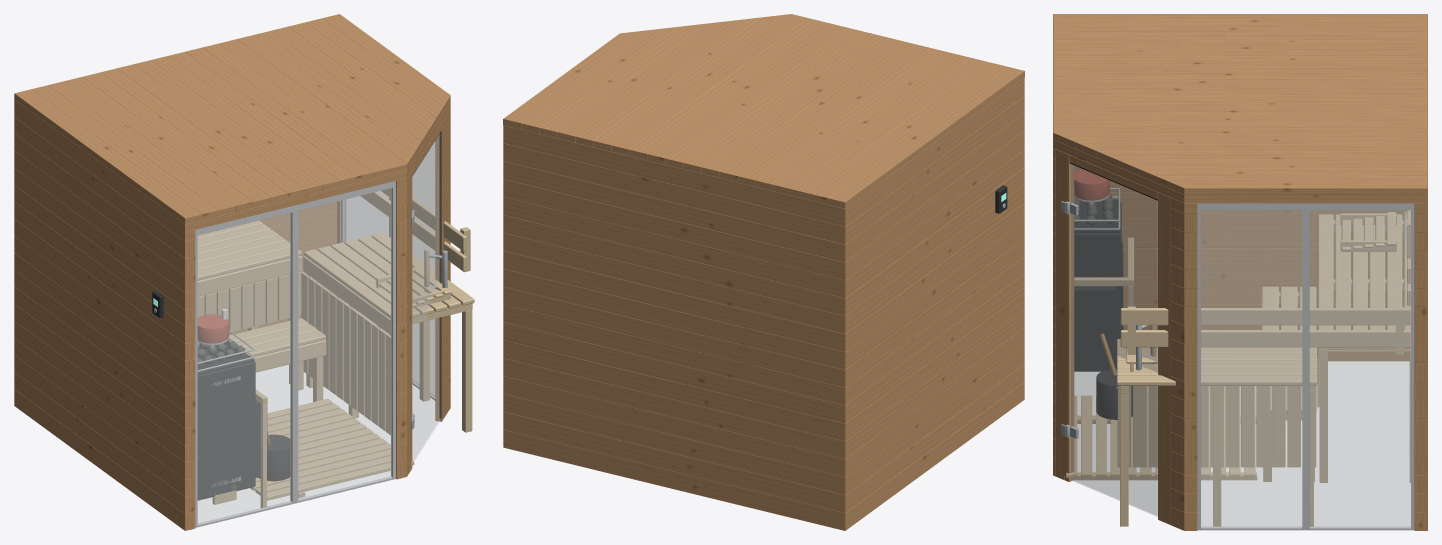
The model's file is zirbe-eck-glasfront.glb.
The picture shows the model from 3 angles, left to right: view 1: azimuth 30°, elevation 25°; view 2: azimuth 150°, elevation 25°; view 3: azimuth 270°, elevation 25°; orthographic projection. The views are drawn at different scales.
Visible parts, largest first — view 1: Glass front pane 8mm.001, Glass front pane 8mm, Door glass 8mm, Heater casing, Ceiling board 01, Ceiling board 05, Ceiling board 02, Ceiling board 04, Ceiling board 06, Ceiling board 10, Ceiling board 11, Ceiling board 03 (+87 smaller); view 2: Back board 07, Back board 10, Back board 02, Back board 04, Back board 08, Back board 09, Back board 03, Back board 11, Back board 12, Back board 15, Back board 16, Back board 17 (+43 smaller); view 3: Glass front pane 8mm.002, Glass front pane 8mm.003, Door glass 8mm, Door jamb, Side backrest right slat 2, Side backrest right slat 1, Ceiling board 19, Door jamb.001, Ceiling board 14, Ceiling board 13, Ceiling board 01, Ceiling board 02 (+68 smaller).
Part boxes in pixels (bbox=[...]): Glass front pane 8mm.001: bbox=[298, 188, 391, 499]; Glass front pane 8mm: bbox=[198, 213, 291, 524]; Door glass 8mm: bbox=[412, 133, 440, 461]; Heater casing: bbox=[197, 361, 255, 500]; Ceiling board 01: bbox=[14, 89, 202, 224]; Ceiling board 05: bbox=[83, 72, 270, 207]; Ceiling board 02: bbox=[31, 85, 219, 220]; Ceiling board 04: bbox=[66, 76, 253, 211]; Ceiling board 06: bbox=[100, 68, 287, 203]; Ceiling board 10: bbox=[169, 51, 356, 186]; Ceiling board 11: bbox=[186, 47, 373, 182]; Ceiling board 03: bbox=[49, 81, 236, 215]; Back board 07: bbox=[503, 322, 845, 423]; Back board 10: bbox=[503, 268, 845, 369]; Back board 02: bbox=[503, 412, 845, 512]; Back board 04: bbox=[503, 376, 845, 476]; Back board 08: bbox=[503, 304, 845, 405]; Back board 09: bbox=[503, 286, 845, 387]; Back board 03: bbox=[503, 394, 845, 494]; Back board 11: bbox=[503, 250, 845, 351]; Back board 12: bbox=[503, 233, 845, 333]; Back board 15: bbox=[503, 179, 845, 280]; Back board 16: bbox=[503, 161, 845, 262]; Back board 17: bbox=[503, 143, 845, 244]; Glass front pane 8mm.002: bbox=[1201, 210, 1301, 527]; Glass front pane 8mm.003: bbox=[1310, 210, 1410, 527]; Door glass 8mm: bbox=[1070, 164, 1157, 516]; Door jamb: bbox=[1056, 149, 1074, 481]; Side backrest right slat 2: bbox=[1120, 308, 1410, 325]; Side backrest right slat 1: bbox=[1120, 330, 1410, 347]; Ceiling board 19: bbox=[1162, 179, 1427, 194]; Door jamb.001: bbox=[1158, 192, 1170, 524]; Ceiling board 14: bbox=[1054, 133, 1427, 148]; Ceiling board 13: bbox=[1053, 124, 1427, 139]; Ceiling board 01: bbox=[1053, 14, 1427, 23]; Ceiling board 02: bbox=[1053, 23, 1427, 32].
Size of the model in its own units: 2.24 by 2.02 by 2.
Materials: 15 (3 with a texture image).
